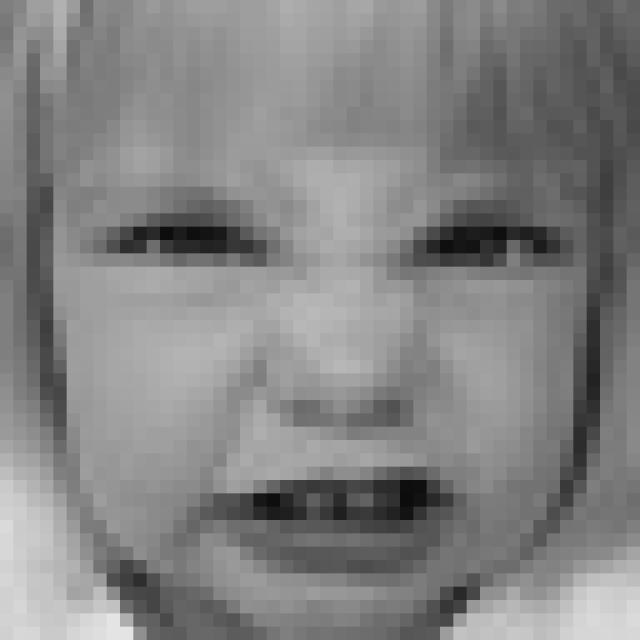angry: (93, 170, 585, 579)
